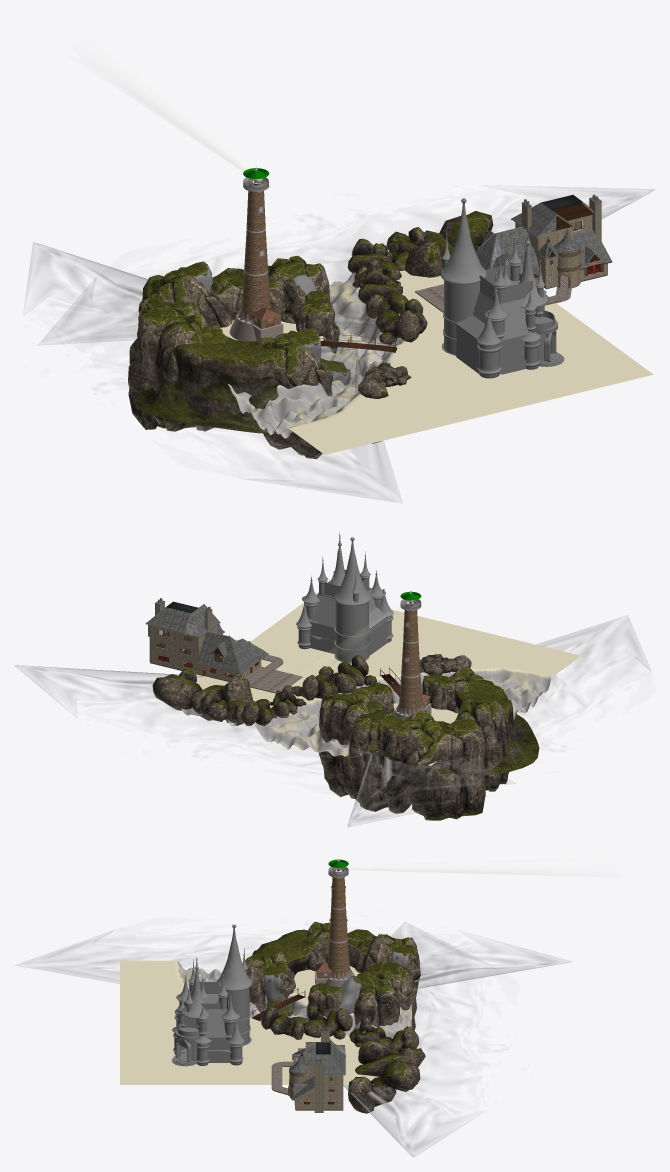
3 views of the same model, one above another, from view 1: azimuth 30°, elevation 25°; view 2: azimuth 150°, elevation 25°; view 3: azimuth 270°, elevation 25° (orthographic). The views are drawn at different scales.
Parts seen in each view (by area): view 1: mesh_0 (×7), Ocean Surf Animated - With Sound (×2), prim0-mesh_0 (×6), Terrain 0,14, Halloween - Dark Castle, Terrain 1,14, Castle Manor, Hylee's Large Lighthouse, Terrain 1,15, 14x24x14 sphere (×2), Terrain 0,15, rock mountain 1 (+1 smaller); view 2: prim0-mesh_0 (×8), mesh_0 (×9), Ocean Surf Animated - With Sound (×2), Castle Manor, Terrain 0,14, Halloween - Dark Castle, Terrain 1,14, Terrain 1,15, Hylee's Large Lighthouse, Terrain 0,15, 14x24x14 sphere, rock mountain 1 (+1 smaller); view 3: prim0-mesh_0 (×9), Ocean Surf Animated - With Sound (×2), mesh_0 (×7), Terrain 1,14, Halloween - Dark Castle, Terrain 0,14, Castle Manor, Terrain 1,15, Hylee's Large Lighthouse, 14x24x14 sphere (×2), Terrain 0,15, rock mountain 1 (+1 smaller).
Boxes of the visible parts, <box> form: mesh_0 (×7): <box>128,227,427,433</box>; Ocean Surf Animated - With Sound (×2): <box>24,186,654,502</box>; prim0-mesh_0 (×6): <box>138,211,493,459</box>; Terrain 0,14: <box>230,346,488,454</box>; Halloween - Dark Castle: <box>443,233,561,378</box>; Terrain 1,14: <box>395,305,653,414</box>; Castle Manor: <box>415,194,612,312</box>; Hylee's Large Lighthouse: <box>229,166,283,341</box>; Terrain 1,15: <box>329,263,558,355</box>; 14x24x14 sphere (×2): <box>440,198,548,307</box>; Terrain 0,15: <box>137,307,385,386</box>; rock mountain 1: <box>347,238,401,280</box>; prim0-mesh_0 (×8): <box>152,667,510,813</box>; mesh_0 (×9): <box>199,654,539,820</box>; Ocean Surf Animated - With Sound (×2): <box>14,615,650,826</box>; Castle Manor: <box>145,598,302,693</box>; Terrain 0,14: <box>376,624,581,719</box>; Halloween - Dark Castle: <box>296,551,393,662</box>; Terrain 1,14: <box>250,592,449,677</box>; Terrain 1,15: <box>181,653,369,749</box>; Hylee's Large Lighthouse: <box>394,591,431,720</box>; Terrain 0,15: <box>299,698,458,765</box>; 14x24x14 sphere: <box>334,537,371,605</box>; rock mountain 1: <box>232,699,289,725</box>; prim0-mesh_0 (×9): <box>245,921,425,1113</box>; Ocean Surf Animated - With Sound (×2): <box>16,922,571,1157</box>; mesh_0 (×7): <box>252,929,416,1047</box>; Terrain 1,14: <box>120,1022,266,1084</box>; Halloween - Dark Castle: <box>172,959,249,1065</box>; Terrain 0,14: <box>120,960,266,1022</box>; Castle Manor: <box>271,1028,345,1112</box>; Terrain 1,15: <box>267,1026,403,1084</box>; Hylee's Large Lighthouse: <box>315,859,354,987</box>; 14x24x14 sphere (×2): <box>180,924,252,1018</box>; Terrain 0,15: <box>267,966,411,1035</box>; rock mountain 1: <box>374,1026,418,1051</box>.
Size of what is drawn, in the model's own units: 255 by 95.9 by 279.
223 materials, 205 textured.
